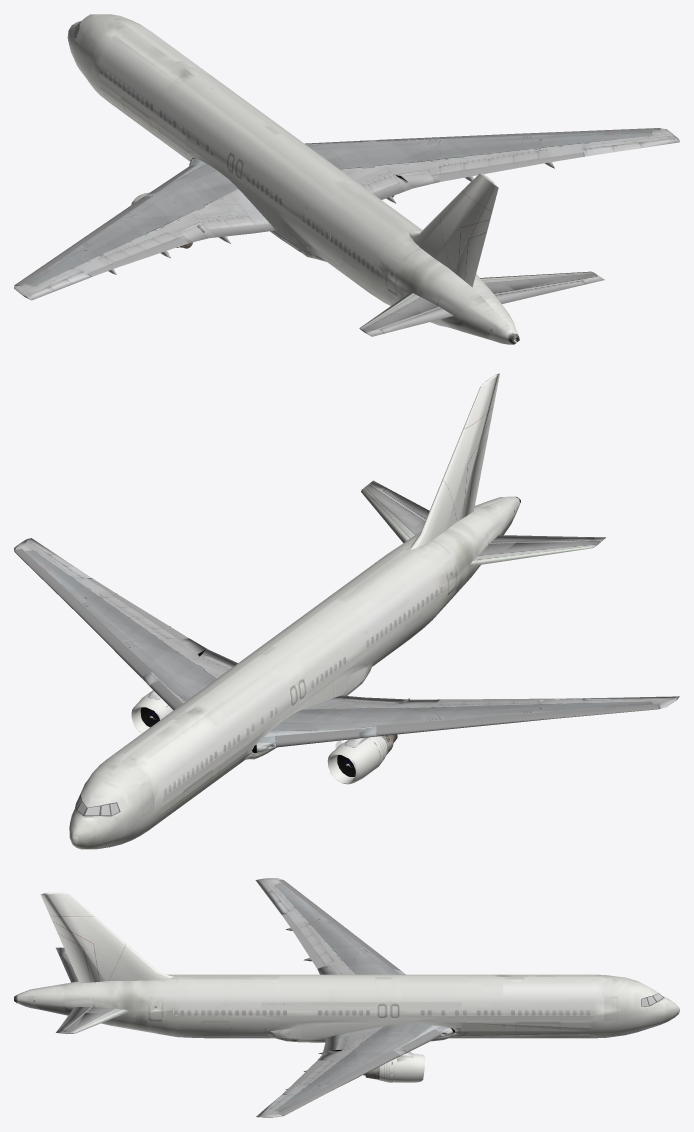
The picture shows the model from 3 angles, top to bottom: view 1: azimuth 30°, elevation 25°; view 2: azimuth 150°, elevation 25°; view 3: azimuth 270°, elevation 25°; orthographic projection. The views are drawn at different scales.
Parts seen in each view (by area): view 1: rootNode; view 2: rootNode; view 3: rootNode.
Boxes of the visible parts, left/top/right/bottom form: rootNode: left=14, top=14, right=679, bottom=344; rootNode: left=14, top=373, right=679, bottom=849; rootNode: left=14, top=878, right=679, bottom=1117.
Bounding box in the file's own units: 51.77 × 15.47 × 61.06.
Materials: 9 (4 with a texture image).
